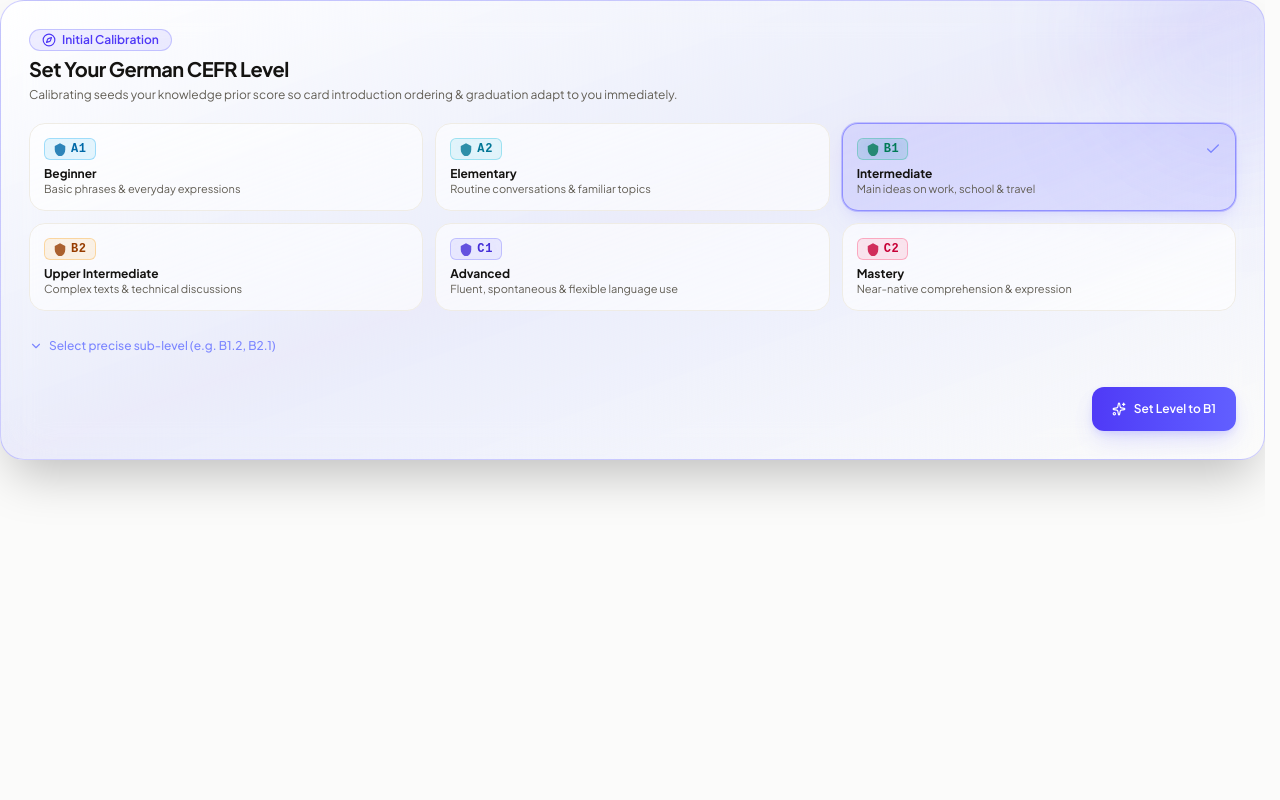
CEFRCalibrationCard › shows an error toast if calibration fails
Click the button "Set Level to B1" at (1164, 408), box [1092,386,1236,430]
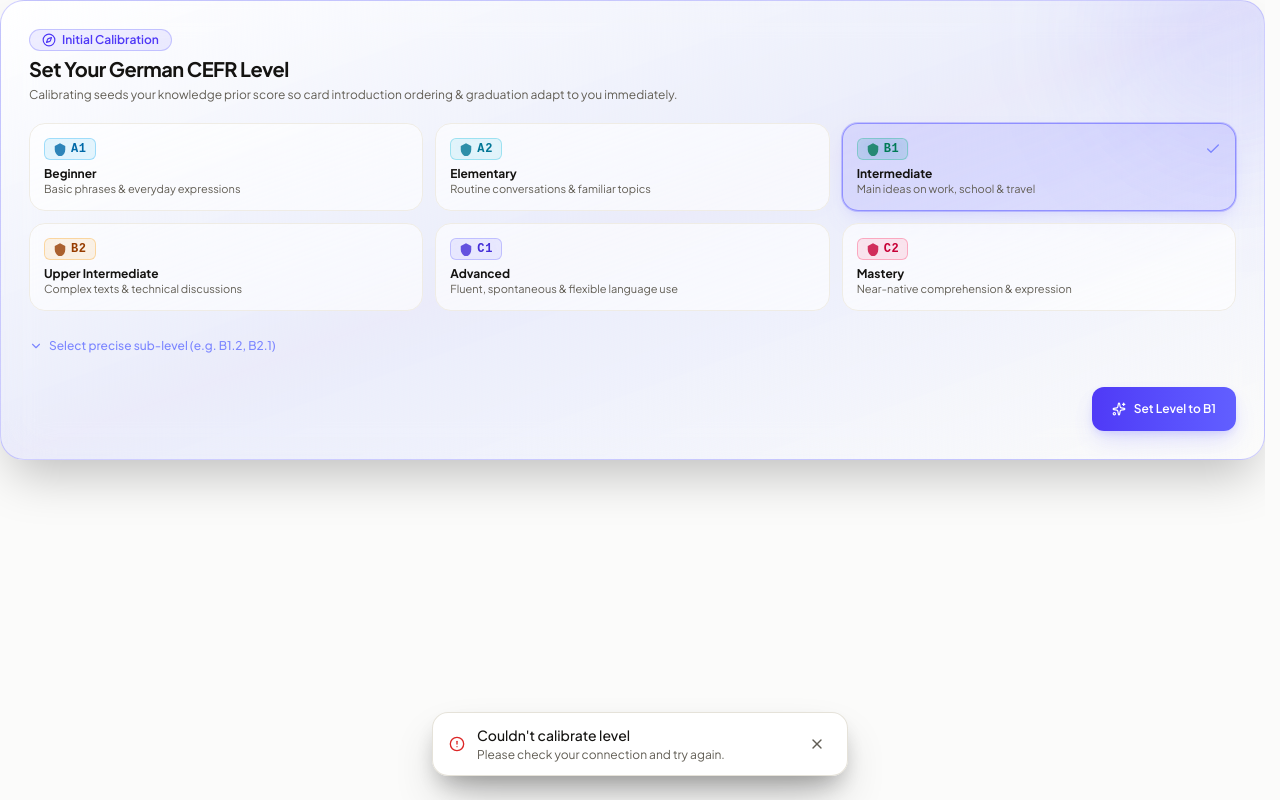
expect the text "Couldn't calibrate level" is shown: met, box [477,726,630,744]
